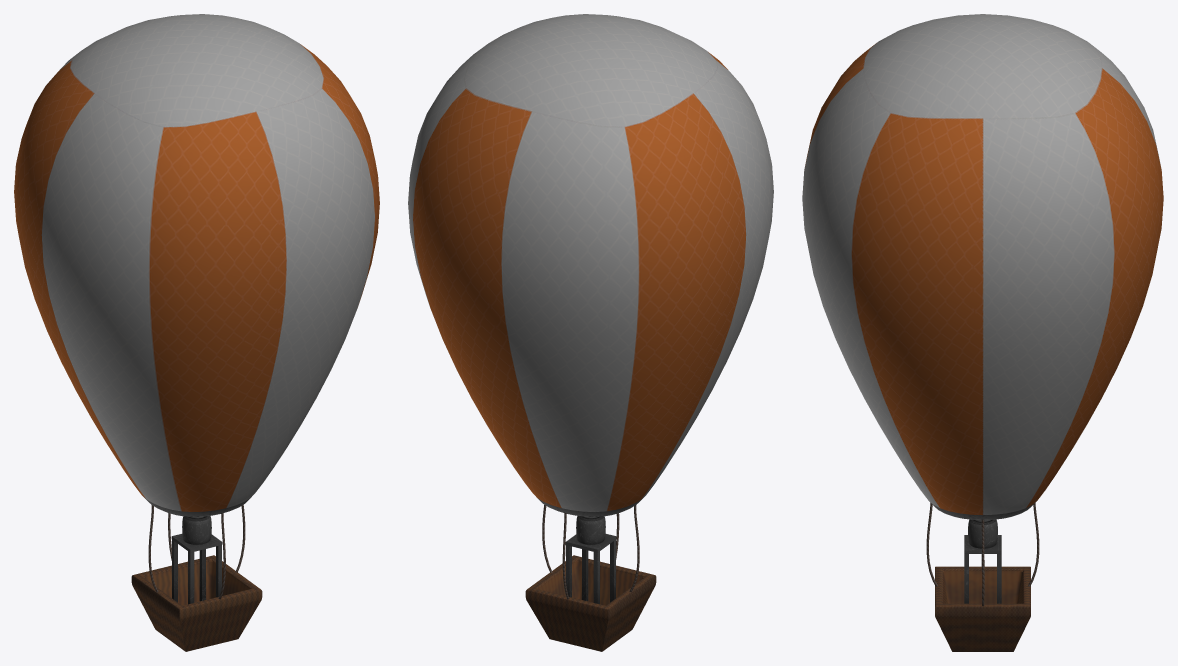
Rendered from fantasy_hot_air_balloon__free_3d_asset_glb.glb.
The picture shows the model from 3 angles, left to right: view 1: azimuth 30°, elevation 25°; view 2: azimuth 150°, elevation 25°; view 3: azimuth 270°, elevation 25°; orthographic projection.
Parts seen in each view (by area): view 1: Globo_0, Canasta_1, Plataforma_3, Cuerdas_4, Quemador_2; view 2: Globo_0, Canasta_1, Plataforma_3, Cuerdas_4, Quemador_2; view 3: Globo_0, Canasta_1, Plataforma_3, Cuerdas_4, Quemador_2.
Boxes of the visible parts, box(x1,y1,x2,y2) form: Globo_0: box(14, 14, 379, 516); Canasta_1: box(131, 555, 262, 651); Plataforma_3: box(171, 533, 222, 604); Cuerdas_4: box(148, 505, 245, 599); Quemador_2: box(182, 516, 211, 544); Globo_0: box(408, 14, 773, 516); Canasta_1: box(525, 555, 656, 651); Plataforma_3: box(565, 533, 616, 604); Cuerdas_4: box(542, 505, 639, 599); Quemador_2: box(576, 516, 605, 544); Globo_0: box(802, 14, 1163, 519); Canasta_1: box(935, 566, 1030, 651); Plataforma_3: box(964, 535, 1001, 603); Cuerdas_4: box(926, 503, 1039, 606); Quemador_2: box(968, 519, 997, 548).
Bounding box in the file's own units: 6 × 11.09 × 6.
Materials: 5 (5 with a texture image).
